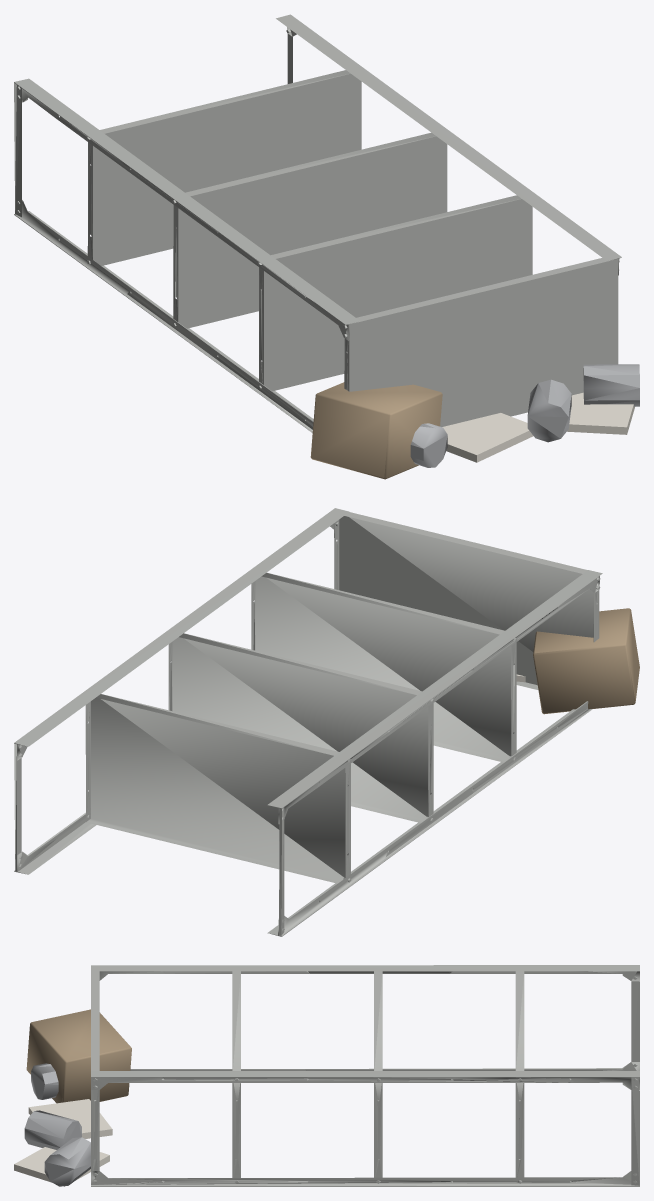
The model's file is Dress_ShelfToppled.fbx.
The picture shows the model from 3 angles, top to bottom: view 1: azimuth 30°, elevation 25°; view 2: azimuth 150°, elevation 25°; view 3: azimuth 270°, elevation 25°; orthographic projection. The views are drawn at different scales.
Visible parts, largest first — view 1: Dress_ShelfToppled; view 2: Dress_ShelfToppled; view 3: Dress_ShelfToppled.
Part boxes in pixels (box(x1,y1,x2,y2)): Dress_ShelfToppled: box(14, 14, 639, 479); Dress_ShelfToppled: box(14, 508, 639, 936); Dress_ShelfToppled: box(14, 965, 639, 1186).
Size of the model in its own units: 105 by 43.98 by 217.
